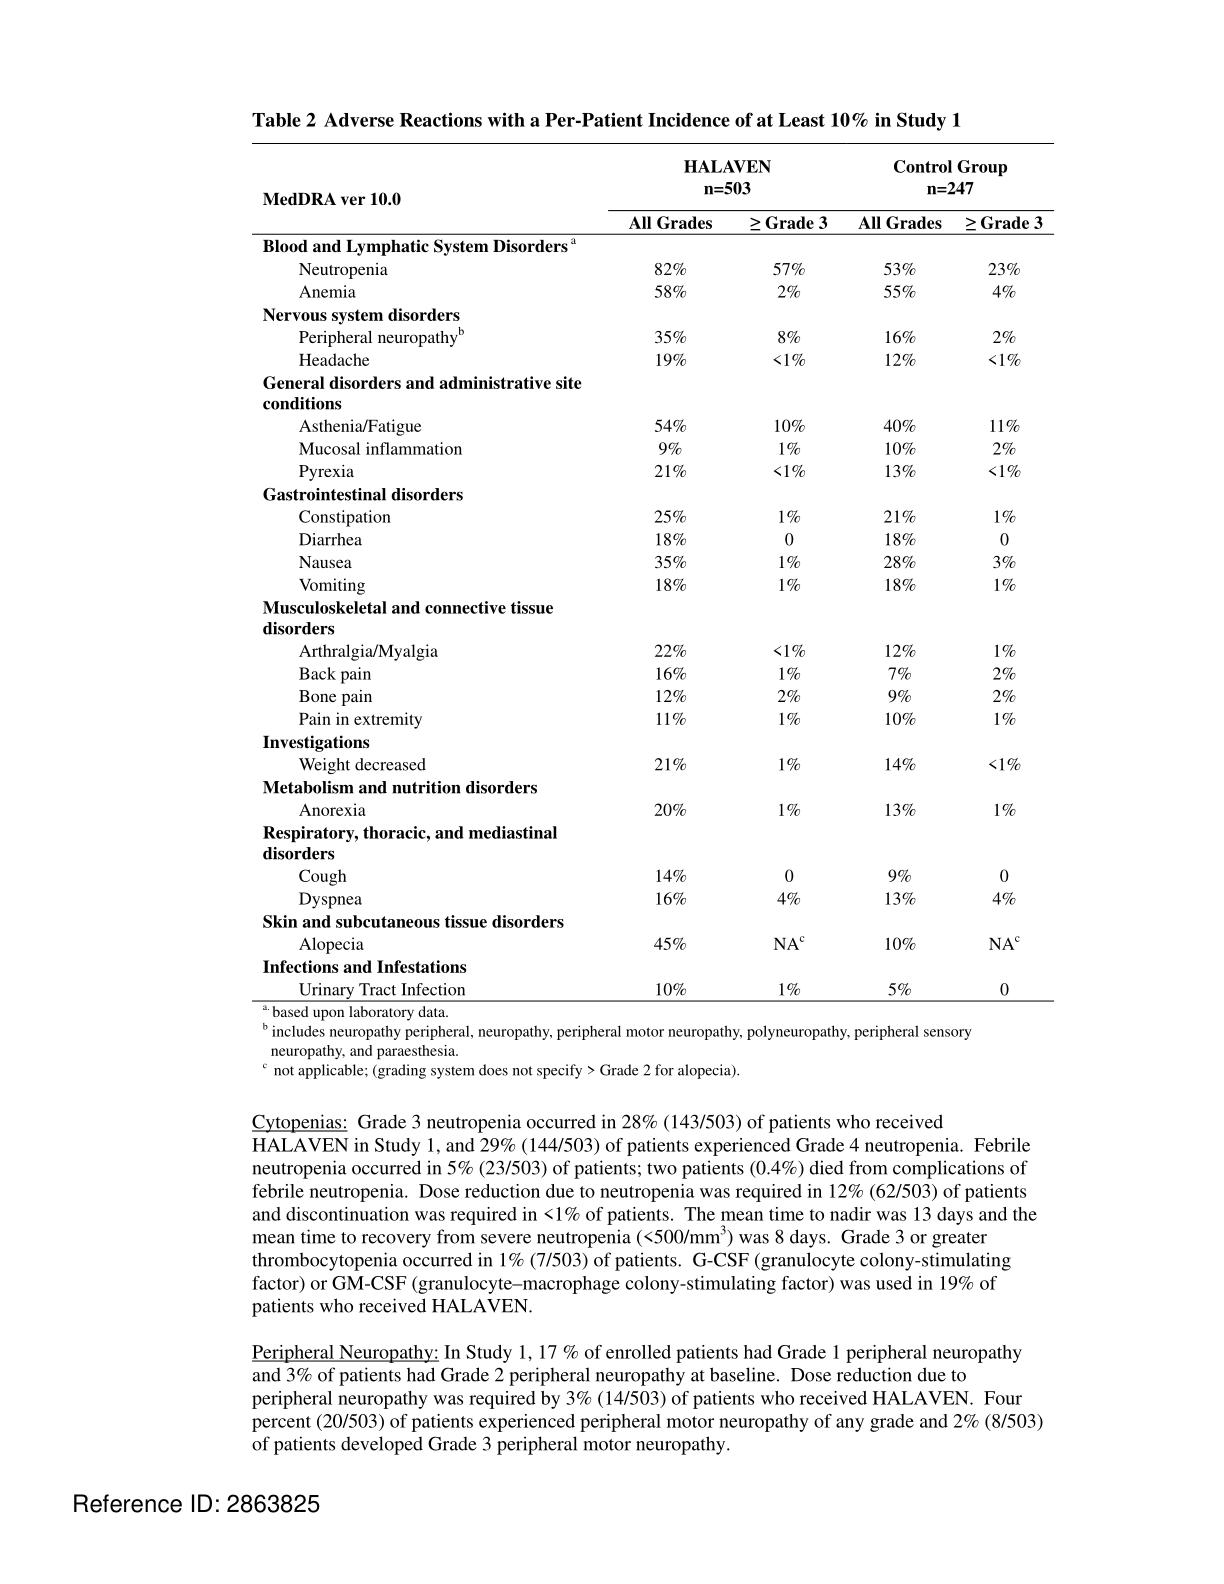partial_lined_merged_cells: (251, 139, 1058, 1003)
